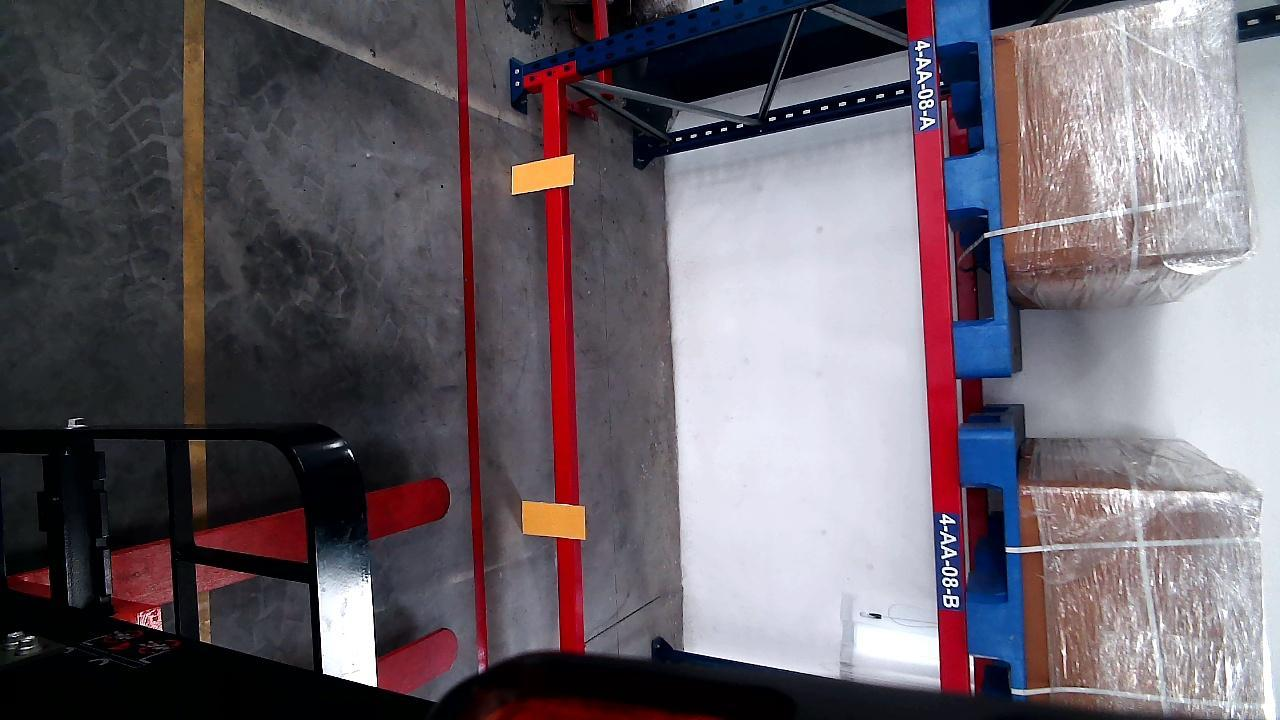red_line: (456, 2, 488, 671)
yellow_line: (181, 1, 207, 422)
